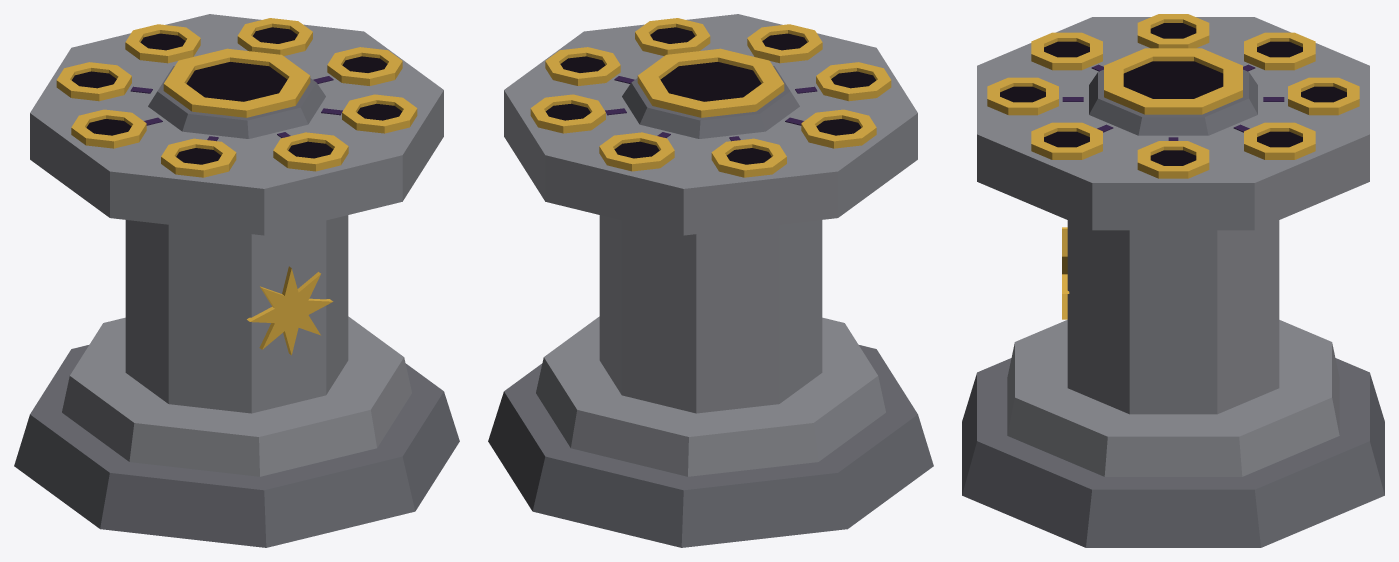
The model's file is shared_infuser.fbx.
3 views of the same model, side by side, from view 1: azimuth 30°, elevation 25°; view 2: azimuth 150°, elevation 25°; view 3: azimuth 270°, elevation 25° (orthographic).
Visible parts, largest first — view 1: Infuser.Stone, Infuser.Dark, Infuser.Gold, Infuser.Hollow, Infuser.Inlay; view 2: Infuser.Stone, Infuser.Dark, Infuser.Gold, Infuser.Hollow, Infuser.Inlay; view 3: Infuser.Stone, Infuser.Dark, Infuser.Gold, Infuser.Hollow, Infuser.Inlay.
Part boxes in pixels (x1=…): Infuser.Stone: x1=30, y1=14, x2=443, y2=476; Infuser.Dark: x1=14, y1=66, x2=459, y2=547; Infuser.Gold: x1=56, y1=18, x2=417, y2=355; Infuser.Hollow: x1=72, y1=27, x2=402, y2=164; Infuser.Inlay: x1=130, y1=76, x2=342, y2=141; Infuser.Stone: x1=504, y1=14, x2=917, y2=476; Infuser.Dark: x1=488, y1=66, x2=933, y2=547; Infuser.Gold: x1=530, y1=18, x2=891, y2=177; Infuser.Hollow: x1=545, y1=27, x2=875, y2=164; Infuser.Inlay: x1=605, y1=76, x2=817, y2=141; Infuser.Stone: x1=977, y1=17, x2=1369, y2=476; Infuser.Dark: x1=962, y1=69, x2=1384, y2=547; Infuser.Gold: x1=987, y1=14, x2=1359, y2=319; Infuser.Hollow: x1=1000, y1=23, x2=1346, y2=165; Infuser.Inlay: x1=1062, y1=64, x2=1284, y2=140.
Size of the model in its own units: 2.59 by 2.57 by 2.59.
